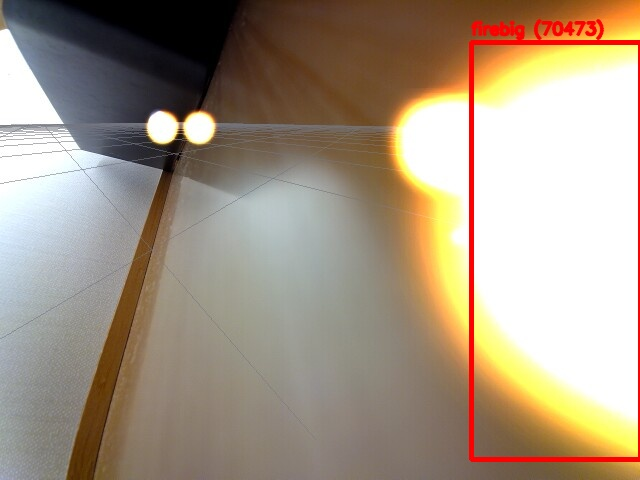firebig: (471, 42, 640, 459)
